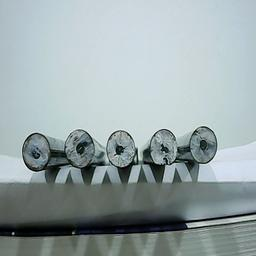pen: (20, 131, 52, 173), (64, 127, 96, 169), (104, 128, 136, 167), (189, 124, 218, 164), (149, 127, 179, 165)
